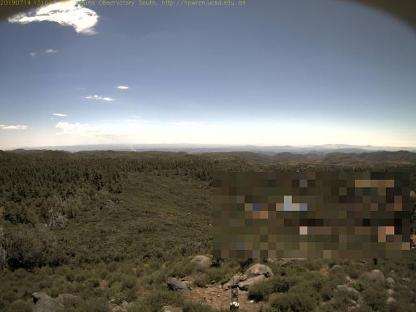smoke: (115, 136, 137, 150)
